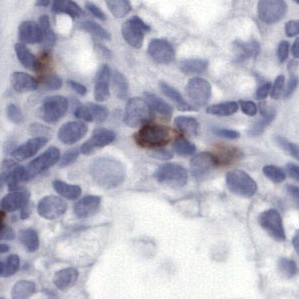Lymphocyte: (137, 120, 183, 149)
